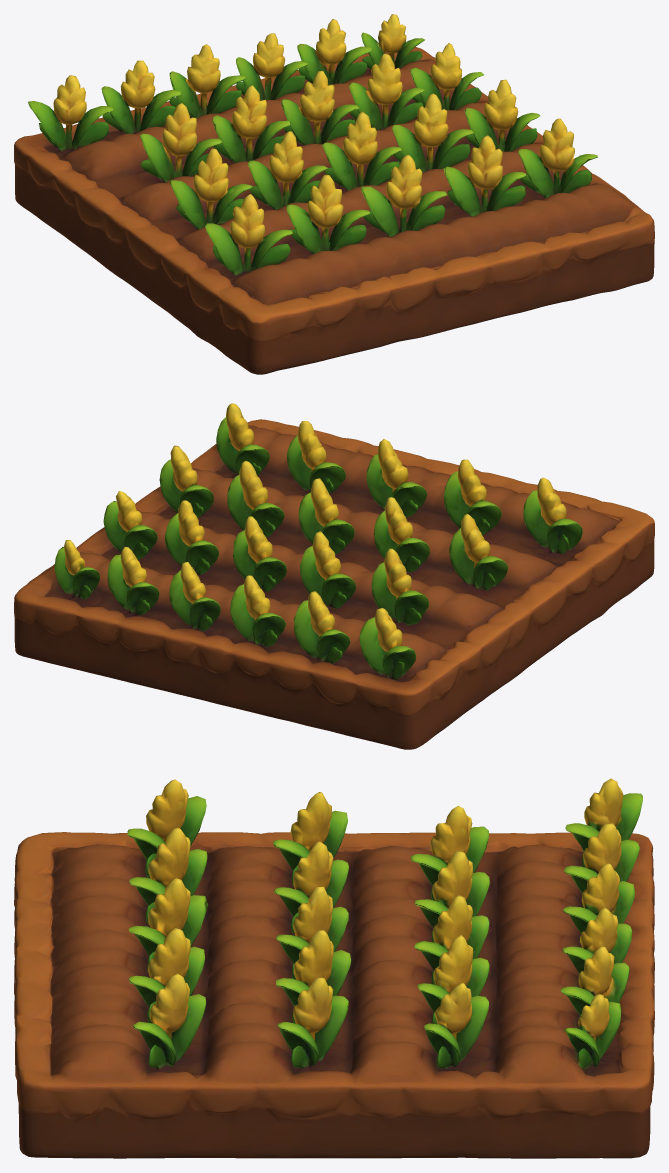
Rendered from field_crop_rows.glb.
3 views of the same model, one above another, from view 1: azimuth 30°, elevation 25°; view 2: azimuth 150°, elevation 25°; view 3: azimuth 270°, elevation 25° (orthographic). The views are drawn at different scales.
Parts seen in each view (by area): view 1: tripo_node_03819354-75ff-45b9-871c-f6a612342675; view 2: tripo_node_03819354-75ff-45b9-871c-f6a612342675; view 3: tripo_node_03819354-75ff-45b9-871c-f6a612342675.
Boxes of the visible parts, x1=… form: tripo_node_03819354-75ff-45b9-871c-f6a612342675: x1=14, y1=14, x2=654, y2=374; tripo_node_03819354-75ff-45b9-871c-f6a612342675: x1=14, y1=403, x2=654, y2=749; tripo_node_03819354-75ff-45b9-871c-f6a612342675: x1=14, y1=778, x2=654, y2=1158.
Size of the model in its own units: 0.9499 by 0.2814 by 1.
1 material, 1 textured.
